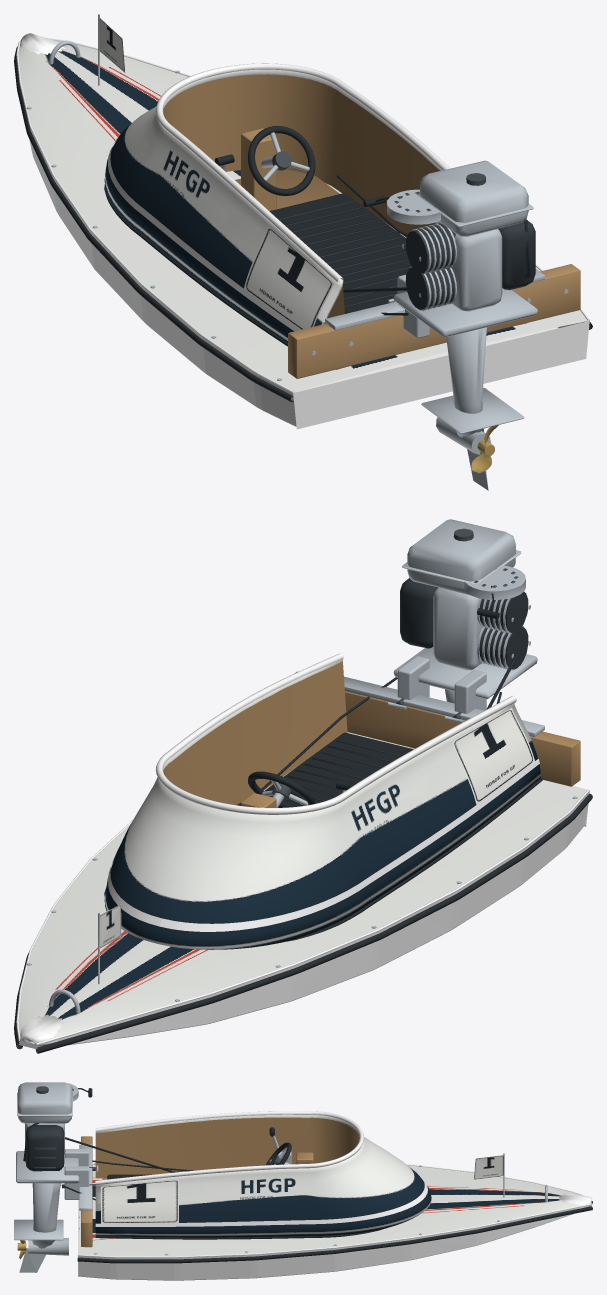
File: boat_lod0.glb
The picture shows the model from 3 angles, top to bottom: view 1: azimuth 30°, elevation 25°; view 2: azimuth 150°, elevation 25°; view 3: azimuth 270°, elevation 25°; orthographic projection. The views are drawn at different scales.
Parts seen in each view (by area): view 1: BoatMesh, MotorMesh; view 2: BoatMesh, MotorMesh; view 3: BoatMesh, MotorMesh.
Part boxes in pixels (x1,y1,x2,y2): BoatMesh: (14, 14, 592, 429); MotorMesh: (363, 160, 537, 490); BoatMesh: (14, 653, 592, 1053); MotorMesh: (393, 519, 537, 703); BoatMesh: (61, 1111, 592, 1280); MotorMesh: (14, 1082, 92, 1272).
Bounding box in the file's own units: 1.34 × 1.15 × 3.26.
Materials: 4 (2 with a texture image).
